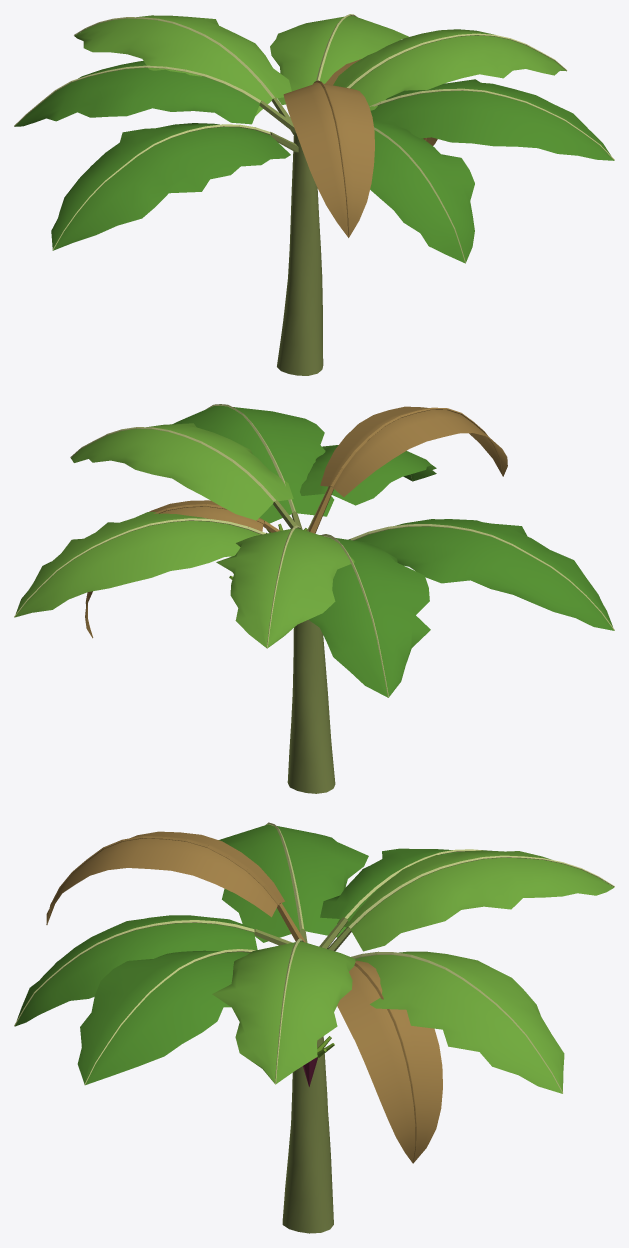
File: banana_tree_01.glb
3 views of the same model, one above another, from view 1: azimuth 30°, elevation 25°; view 2: azimuth 150°, elevation 25°; view 3: azimuth 270°, elevation 25° (orthographic). The views are drawn at different scales.
Parts seen in each view (by area): view 1: banana_tree_01; view 2: banana_tree_01; view 3: banana_tree_01.
Boxes of the visible parts, bbox=[...] form: banana_tree_01: bbox=[14, 14, 614, 375]; banana_tree_01: bbox=[14, 404, 614, 793]; banana_tree_01: bbox=[14, 822, 614, 1233].
Size of the model in its own units: 4.92 by 2.93 by 4.35.
